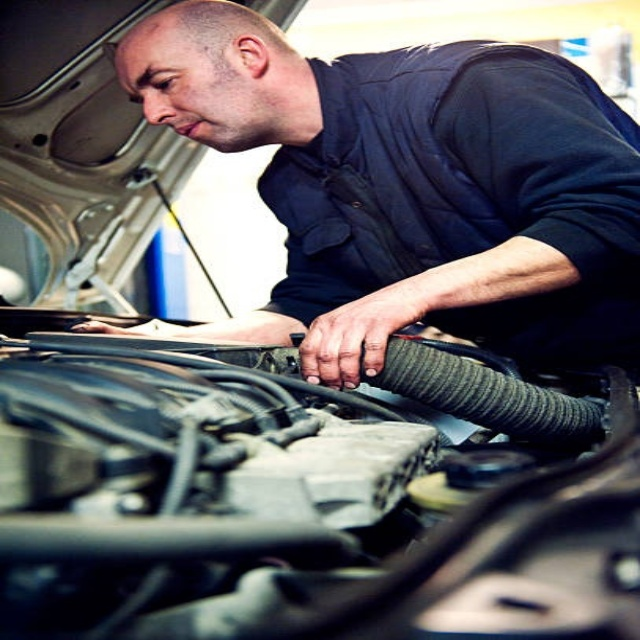Sin_gafas: (127, 55, 193, 108)
Sin_guantes: (292, 297, 399, 393)
Sin_mascara: (162, 116, 241, 145)
